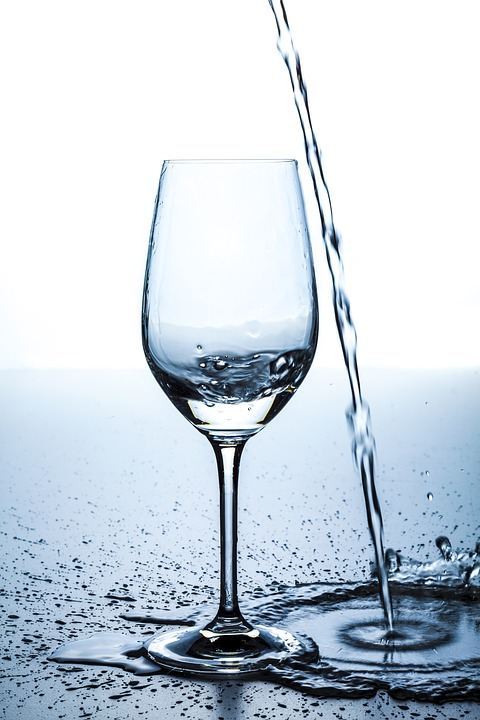glass of water: (151, 209, 279, 692)
